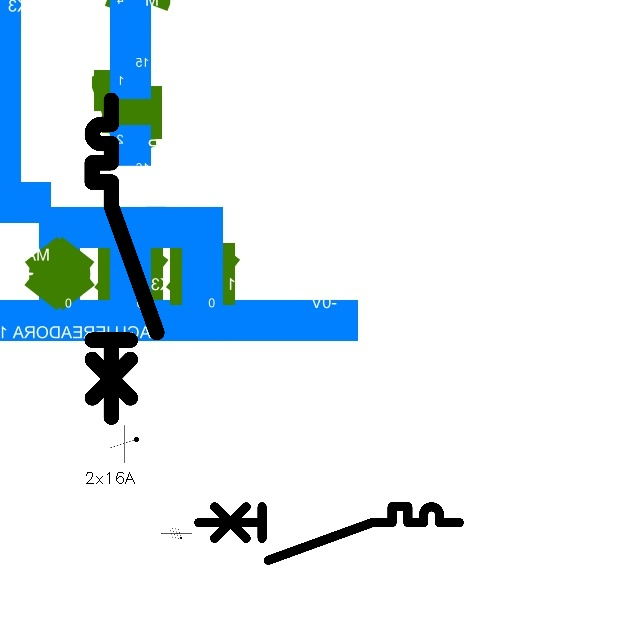interruptor_termomagnetico: (84, 92, 165, 425), (192, 500, 466, 567)
